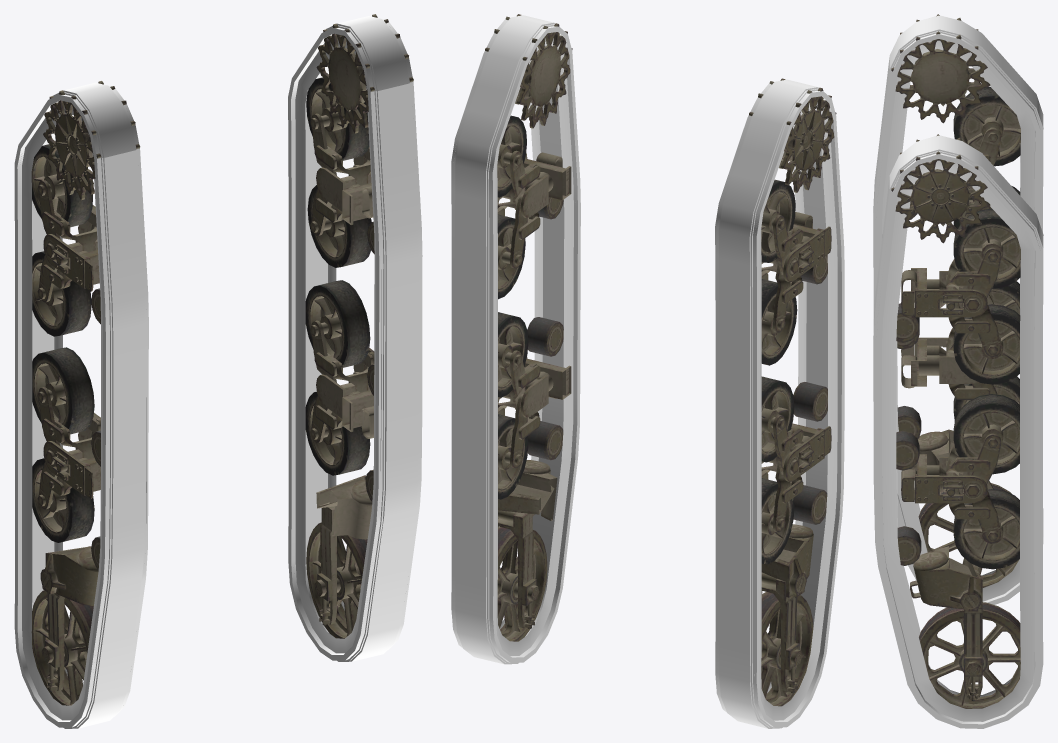
Rendered from Chassis.glb.
3 views of the same model, side by side, from view 1: azimuth 30°, elevation 25°; view 2: azimuth 150°, elevation 25°; view 3: azimuth 270°, elevation 25° (orthographic). The views are drawn at different scales.
Visible parts, largest first — view 1: set_2_group_0, set_3_group_0, set_1_group_0, set_0_group_0; view 2: set_3_group_0, set_2_group_0, set_1_group_0, set_0_group_0; view 3: set_0_group_0, set_2_group_0, set_1_group_0, set_3_group_0.
Part boxes in pixels (x1,y1,x2,y2): set_2_group_0: [288, 16, 422, 661]; set_3_group_0: [14, 82, 148, 728]; set_1_group_0: [31, 81, 140, 705]; set_0_group_0: [305, 14, 413, 638]; set_3_group_0: [715, 79, 844, 728]; set_2_group_0: [451, 15, 580, 664]; set_1_group_0: [749, 78, 836, 706]; set_0_group_0: [485, 14, 572, 641]; set_0_group_0: [891, 134, 1020, 708]; set_2_group_0: [873, 135, 1043, 728]; set_1_group_0: [891, 14, 1020, 587]; set_3_group_0: [873, 15, 1043, 604].
Bounding box in the file's own units: 2.26 × 4.2 × 1.12.
Materials: 4 (2 with a texture image).
